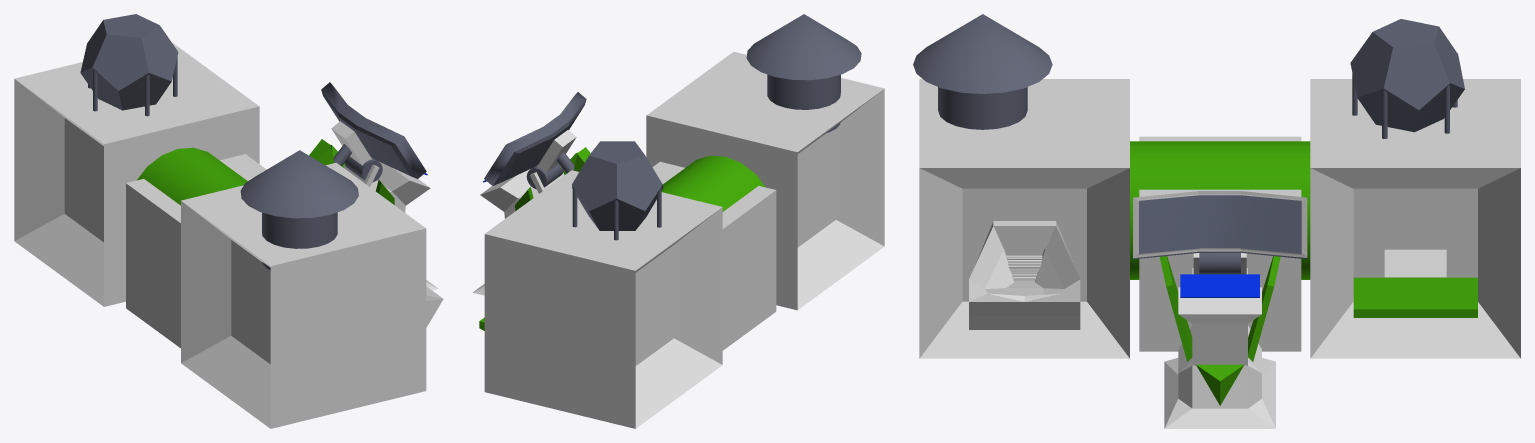
The model's file is Recycling Station.fbx.
3 views of the same model, side by side, from view 1: azimuth 30°, elevation 25°; view 2: azimuth 150°, elevation 25°; view 3: azimuth 270°, elevation 25° (orthographic). The views are drawn at different scales.
Parts seen in each view (by area): view 1: pCube66, pCube65, pCube60, pCone2, pCylinder10, pCylinder11, pCube58, pCube13, pCube27, pCylinder1, pCube57; view 2: pCube65, pCube66, pCube60, pCone2, pCylinder10, pCylinder11, pCube58, pCube13, pCube27, pCylinder1; view 3: pCube65, pCube66, pCube13, pCube58, pCone2, pCube68, pCylinder10, pCylinder11, pCube60, pCube67, pCube59, pPyramid1 (+3 smaller).
Boxes of the visible parts, x1=… form: pCube66: x1=181, y1=162, x2=426, y2=428; pCube65: x1=14, y1=42, x2=259, y2=306; pCube60: x1=126, y1=154, x2=266, y2=348; pCone2: x1=240, y1=150, x2=358, y2=269; pCylinder10: x1=80, y1=14, x2=178, y2=116; pCylinder11: x1=136, y1=147, x2=247, y2=205; pCube58: x1=321, y1=82, x2=426, y2=178; pCube13: x1=370, y1=161, x2=438, y2=290; pCube27: x1=331, y1=121, x2=371, y2=165; pCylinder1: x1=344, y1=156, x2=382, y2=182; pCube57: x1=309, y1=139, x2=333, y2=165; pCube65: x1=484, y1=170, x2=722, y2=428; pCube66: x1=646, y1=51, x2=884, y2=310; pCube60: x1=652, y1=161, x2=776, y2=350; pCone2: x1=746, y1=14, x2=861, y2=132; pCylinder10: x1=572, y1=141, x2=663, y2=240; pCylinder11: x1=661, y1=155, x2=765, y2=211; pCube58: x1=484, y1=92, x2=586, y2=185; pCube13: x1=472, y1=169, x2=538, y2=295; pCube27: x1=537, y1=130, x2=576, y2=172; pCylinder1: x1=526, y1=164, x2=563, y2=189; pCube65: x1=1310, y1=79, x2=1520, y2=358; pCube66: x1=919, y1=79, x2=1129, y2=358; pCube13: x1=1164, y1=268, x2=1275, y2=428; pCube58: x1=1133, y1=191, x2=1307, y2=259; pCone2: x1=913, y1=14, x2=1052, y2=129; pCube68: x1=969, y1=221, x2=1080, y2=329; pCylinder10: x1=1350, y1=19, x2=1464, y2=138; pCylinder11: x1=1130, y1=141, x2=1310, y2=279; pCube60: x1=1139, y1=136, x2=1301, y2=351; pCube67: x1=1353, y1=277, x2=1477, y2=317; pCube59: x1=1180, y1=274, x2=1259, y2=297; pPyramid1: x1=1196, y1=364, x2=1243, y2=405.
Size of the model in its own units: 13.22 by 11.5 by 21.77.
